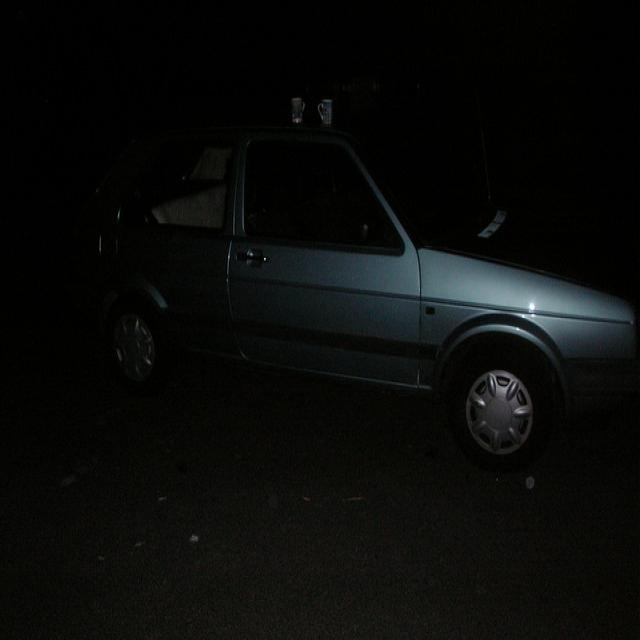Car: (90, 134, 639, 472)
